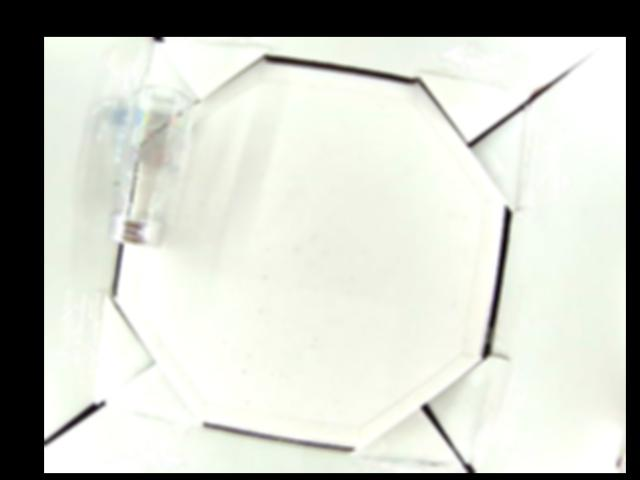Bottle: (111, 85, 196, 249)
